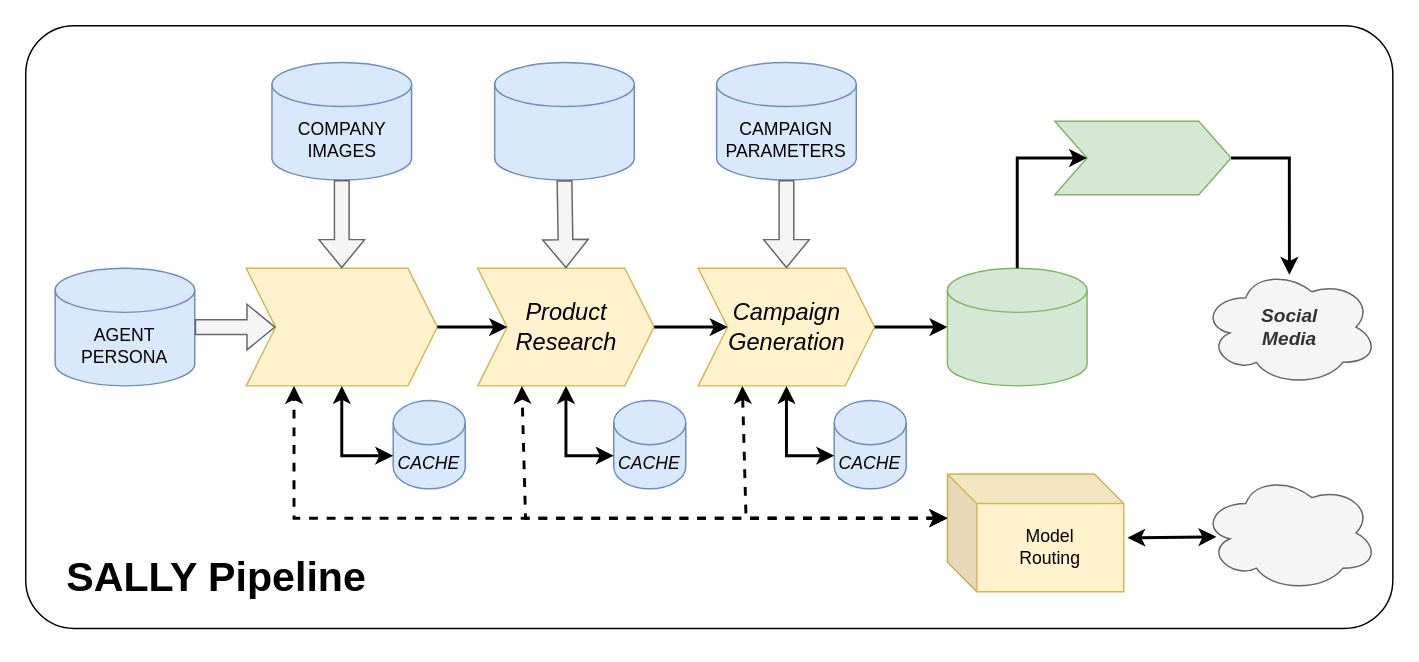
Some shapes in this 1419 by 662 pixel diagram are drawn without their labels. Each missing label, with the centre of its shape:
Catalog & Analyze Images: (341,326)
HIL Execution: (1142,157)
Inference Provider: (1289,532)
PRODUCT INFORMATION: (563,120)
SOCIAL MEDIA CAMPAIGN: (1016,326)
